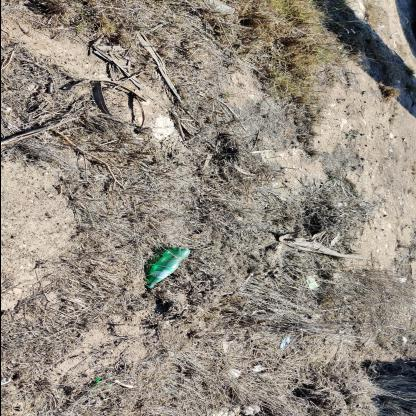plastik: (143, 246, 192, 289)
